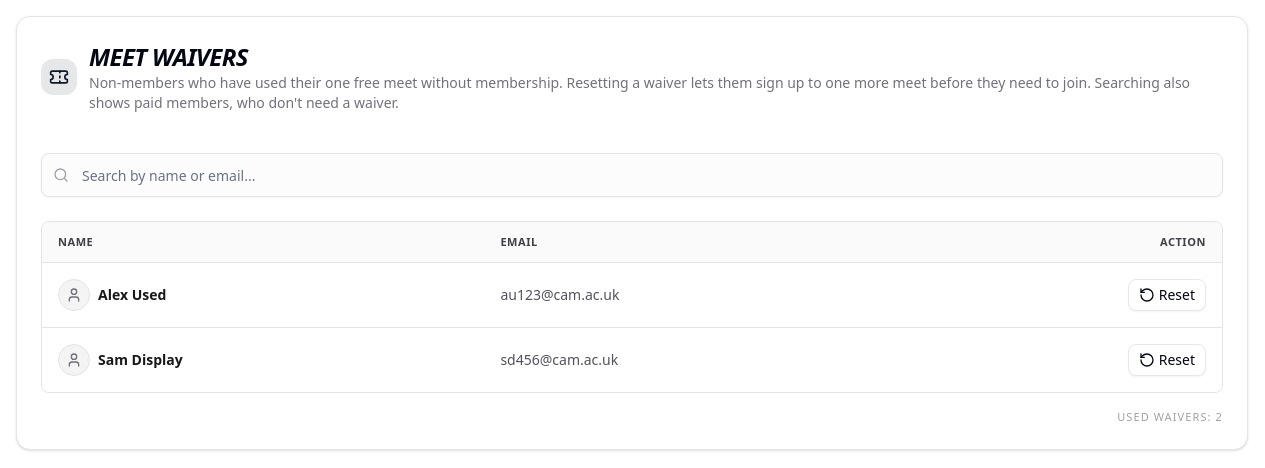
it: Waivers — listing › finds users by email
This screenshot has width=1265, height=468.
Check: the text "Alex Used" is shown, box [98,285,166,305]
Type "sd456" into the field with placeholder "Search by name or email..." at {"x": 632, "y": 175}, box [41,153,1223,197]
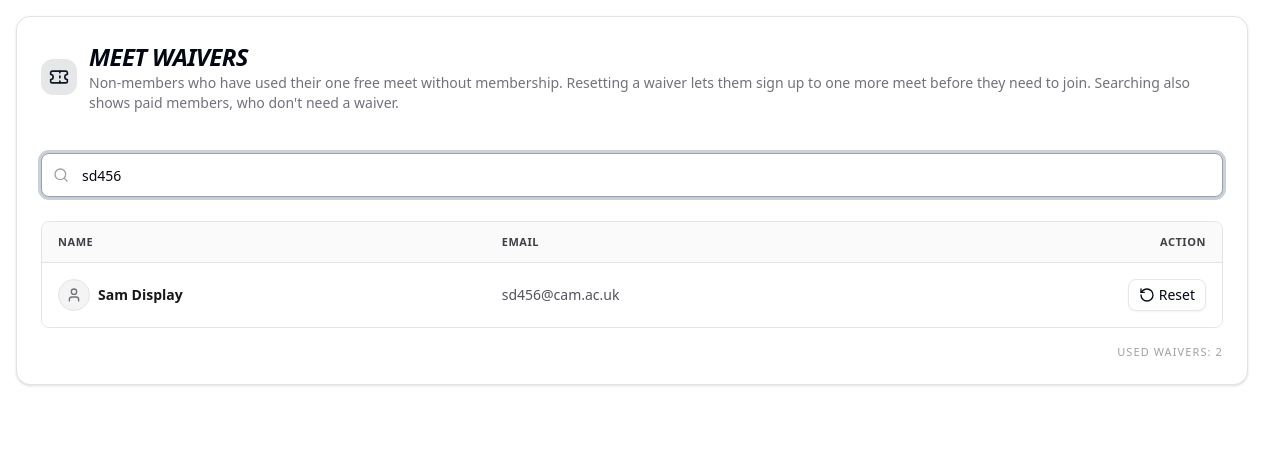
Check: the text "Sam Display" is shown, box [98,285,183,305]
Check: the link "Alex Used" is gone
